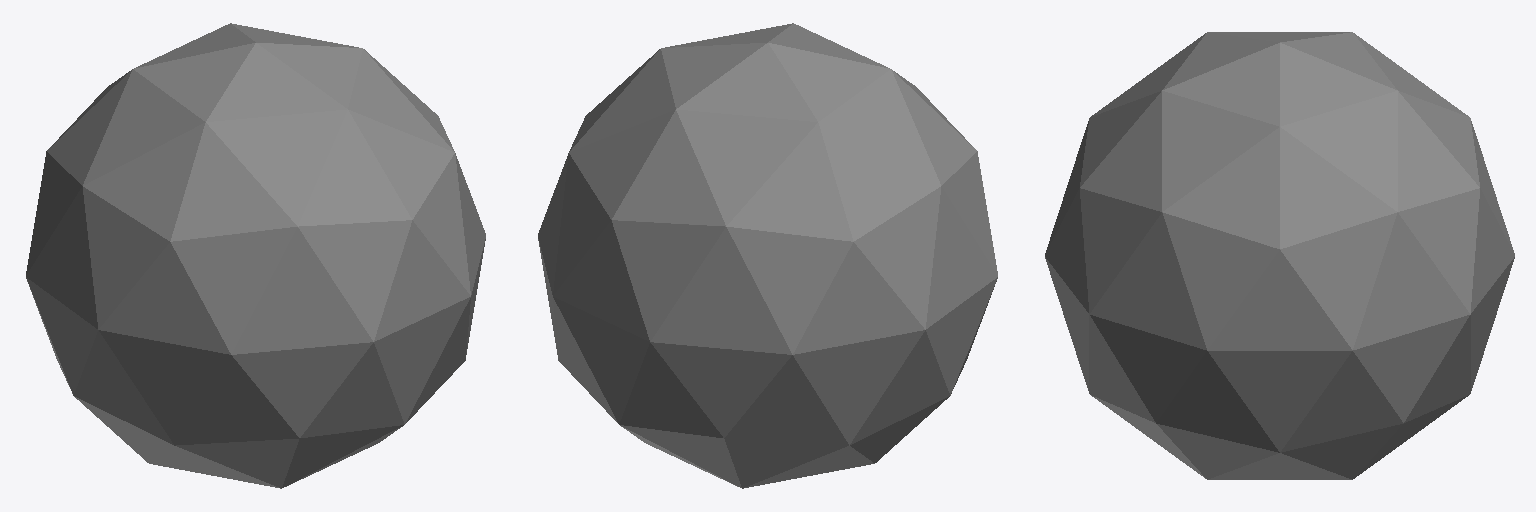
Rendered from moon.obj.
3 renders of one model, left to right at view 1: azimuth 30°, elevation 25°; view 2: azimuth 150°, elevation 25°; view 3: azimuth 270°, elevation 25°, orthographic.
Parts seen in each view (by area): view 1: Icosphere; view 2: Icosphere; view 3: Icosphere.
Part boxes in pixels (left/top/right/bottom): Icosphere: left=26, top=23, right=485, bottom=488; Icosphere: left=538, top=23, right=997, bottom=488; Icosphere: left=1045, top=32, right=1514, bottom=479.
Size of the model in its own units: 1.9 by 2 by 2.